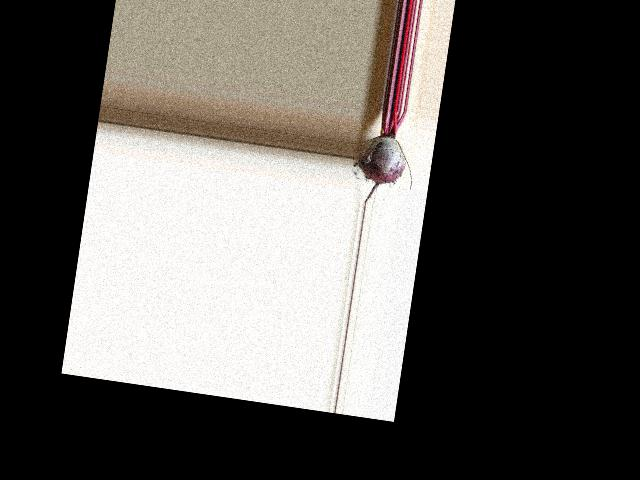beet: (353, 106, 421, 209)
